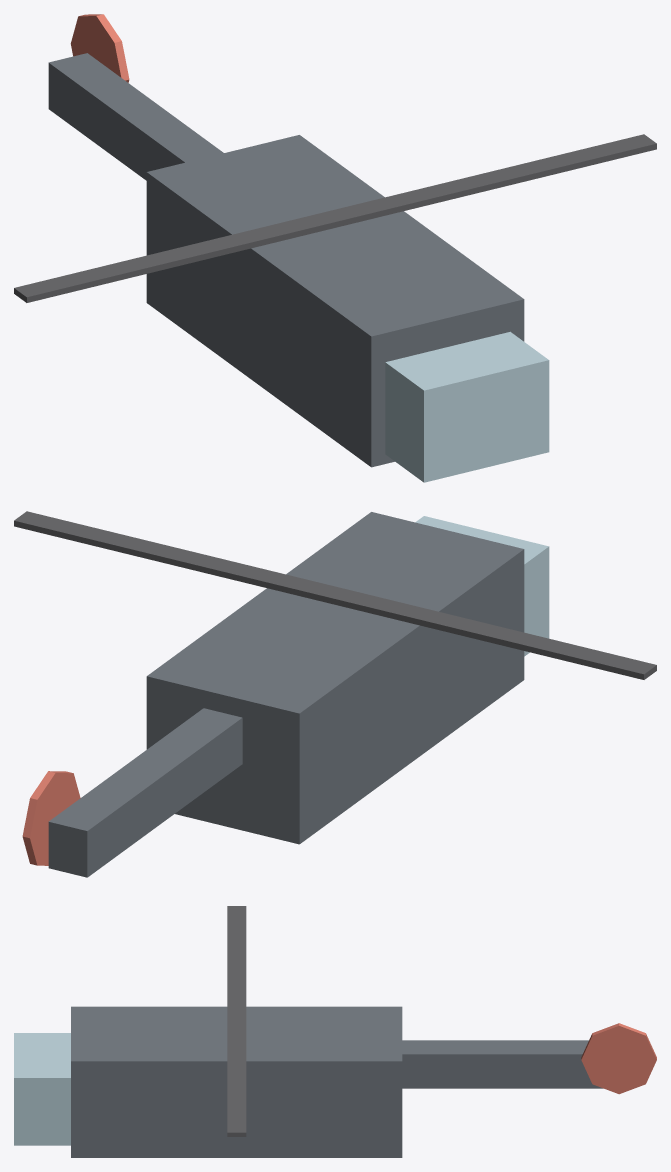
File: SM_PatrolHelicopter.fbx
3 views of the same model, one above another, from view 1: azimuth 30°, elevation 25°; view 2: azimuth 150°, elevation 25°; view 3: azimuth 270°, elevation 25° (orthographic). The views are drawn at different scales.
Visible parts, largest first — view 1: SM_PatrolHelicopter; view 2: SM_PatrolHelicopter; view 3: SM_PatrolHelicopter.
Boxes of the visible parts, box(x1,y1,x2,y2) form: SM_PatrolHelicopter: box(14, 14, 656, 482); SM_PatrolHelicopter: box(14, 511, 656, 877); SM_PatrolHelicopter: box(14, 906, 656, 1157).
Size of the model in its own units: 68000 by 81550 by 16050.
